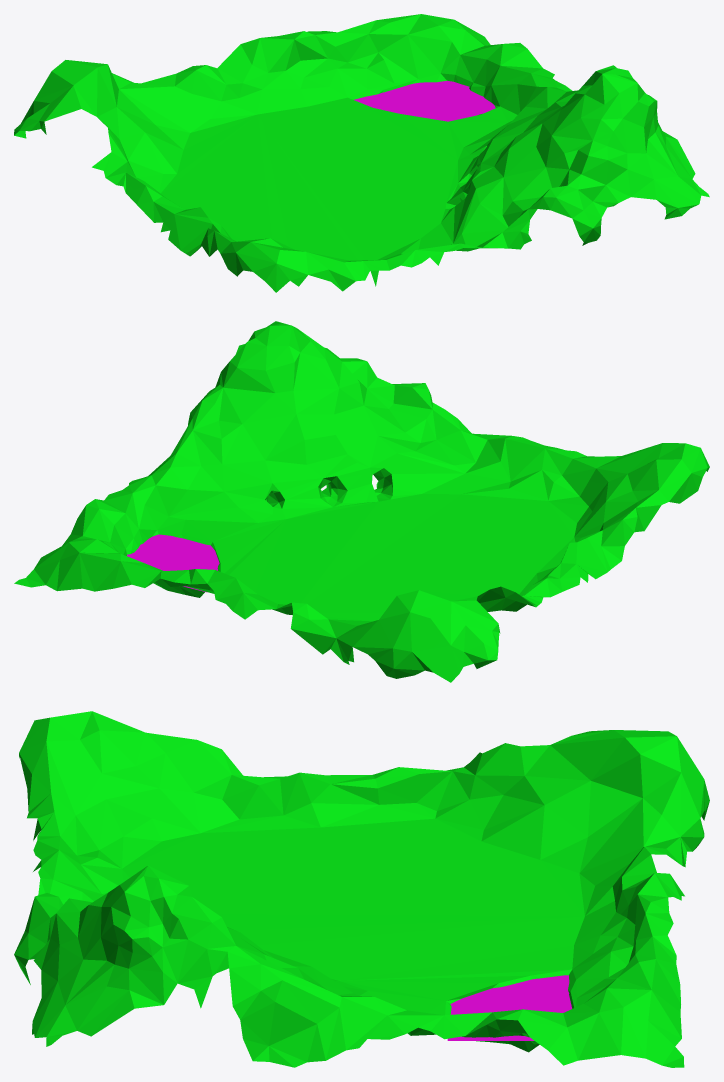
The model's file is Terraiin.fbx.
The picture shows the model from 3 angles, top to bottom: view 1: azimuth 30°, elevation 25°; view 2: azimuth 150°, elevation 25°; view 3: azimuth 270°, elevation 25°; orthographic projection. The views are drawn at different scales.
Visible parts, largest first — view 1: Plane, Plane.001; view 2: Plane, Plane.001; view 3: Plane, Plane.001.
Boxes of the visible parts, x1,y1,x2,y2 form: Plane: (14,14,709,292); Plane.001: (354,80,495,121); Plane: (14,321,709,682); Plane.001: (127,534,219,592); Plane: (14,711,709,1067); Plane.001: (447,975,572,1040).
Size of the model in its own units: 2996 by 900 by 3028.
